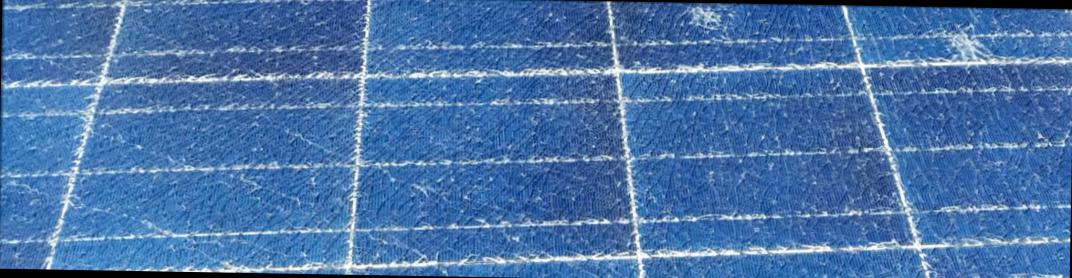Crack: (926, 23, 1002, 81), (680, 2, 748, 44)
